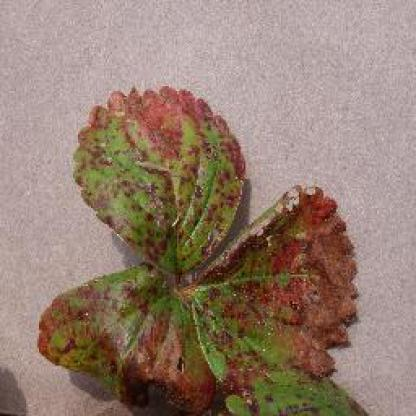leaf scorch: (32, 75, 376, 414)
